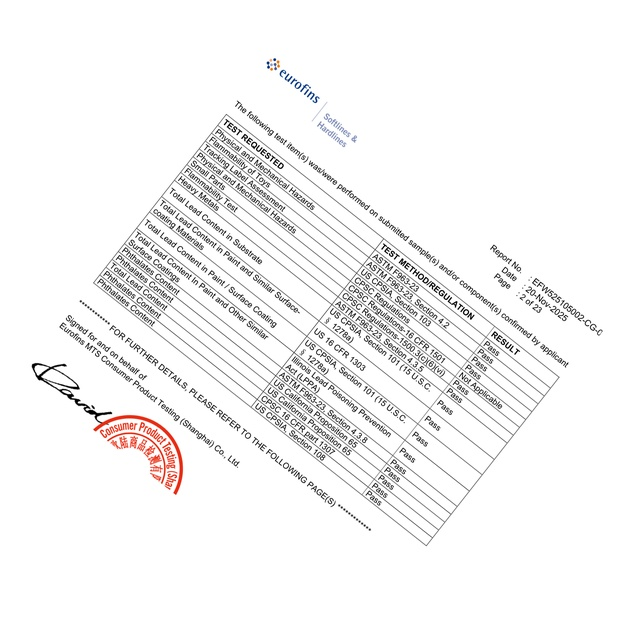eurofins: (262, 53, 323, 106)
